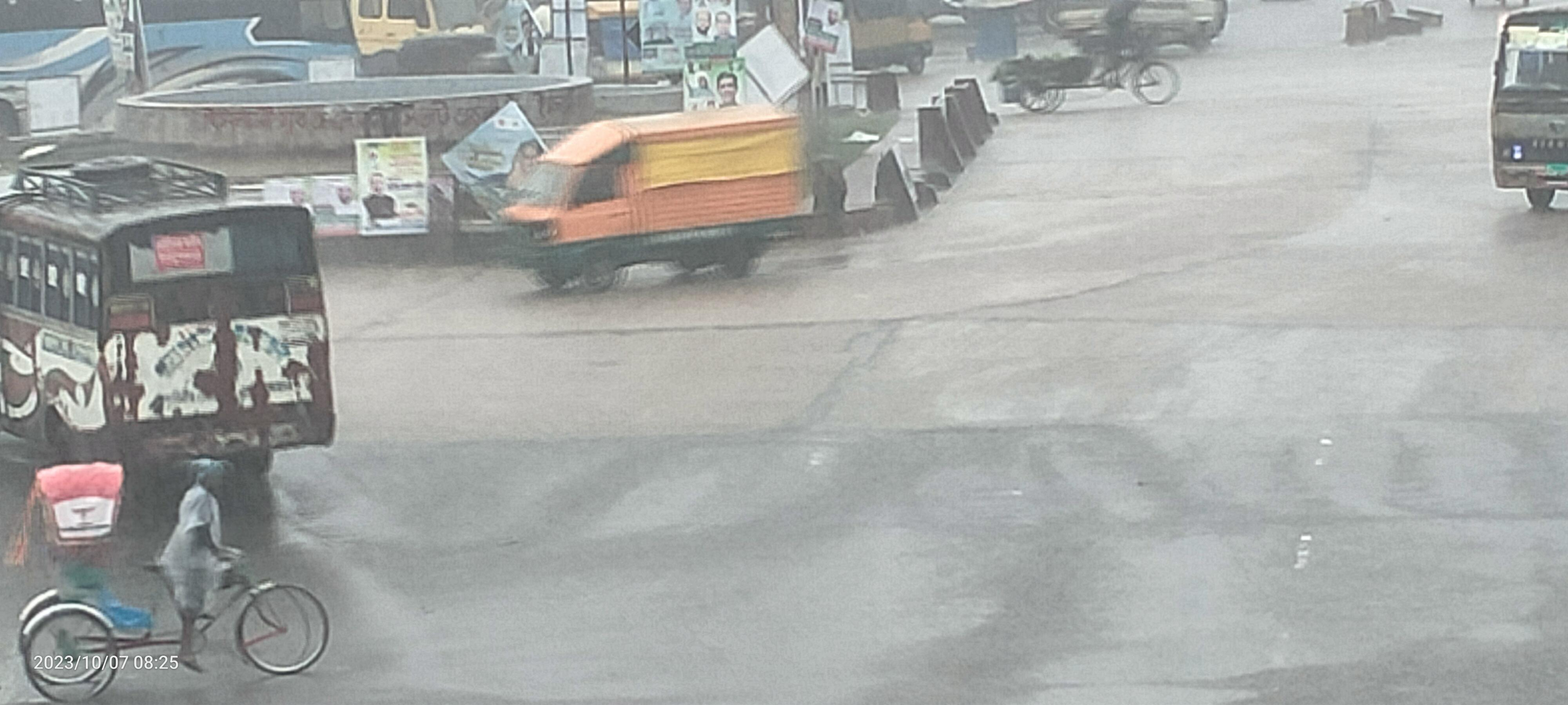Bus: (0, 147, 365, 511), (0, 0, 376, 188), (1450, 0, 1568, 216)
Car: (5, 434, 354, 705), (470, 86, 826, 306)
